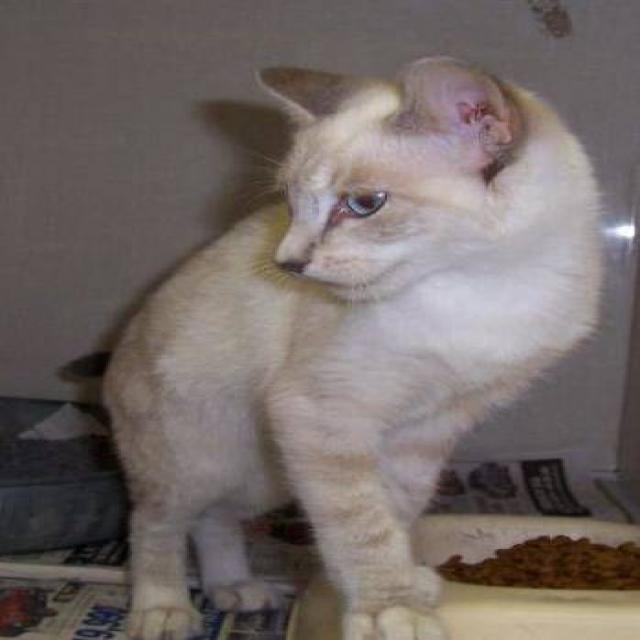cat: (57, 54, 607, 639)
